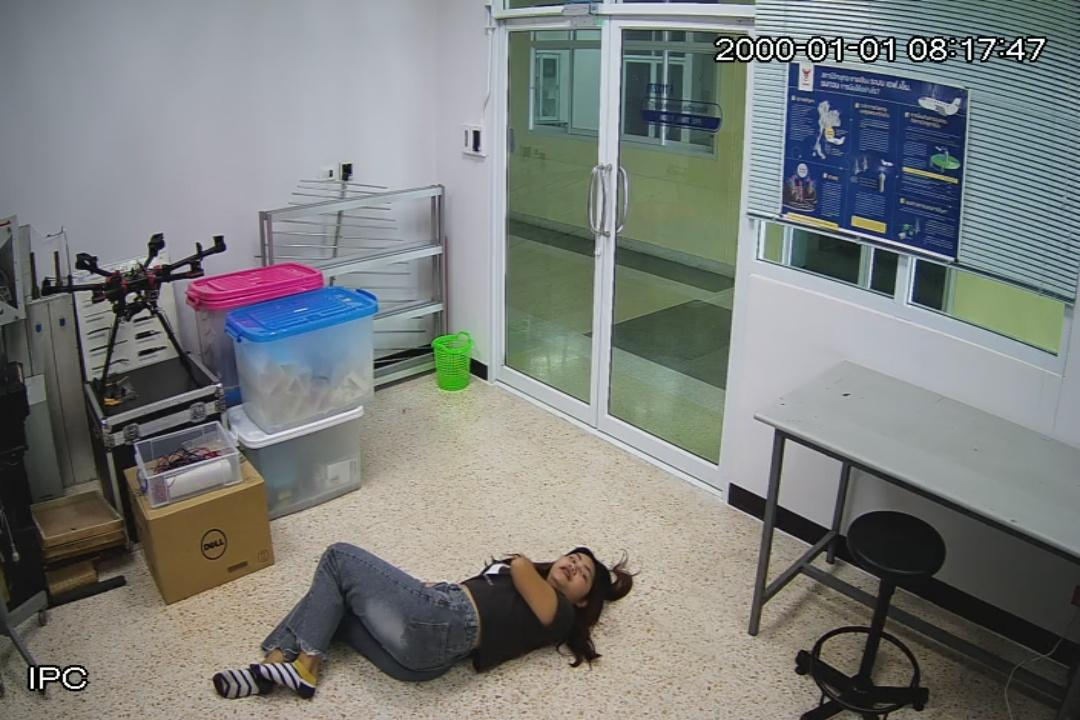fall: (223, 544, 616, 696)
